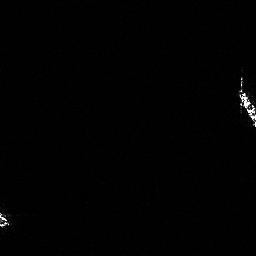ship: (235, 74, 256, 129)
